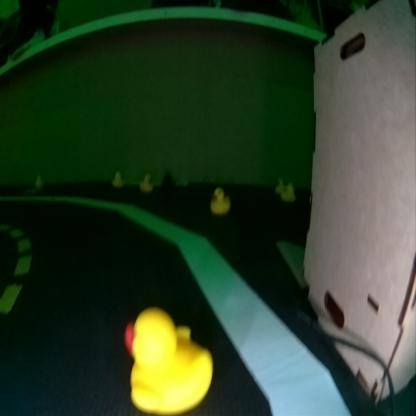Duckie: (125, 310, 209, 414), (210, 189, 229, 213), (281, 184, 294, 202), (110, 171, 123, 187), (140, 172, 151, 190), (274, 176, 284, 191), (34, 174, 43, 187)
